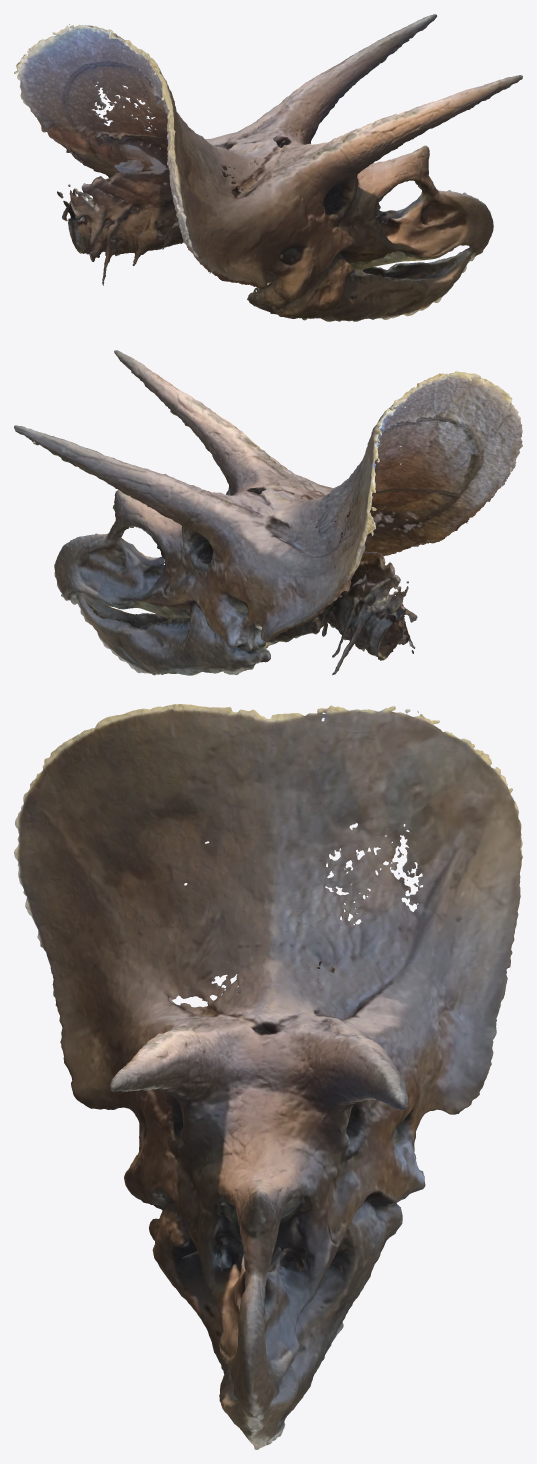
File: sf-triceratops-skull-00099f.glb
3 renders of one model, top to bottom at view 1: azimuth 30°, elevation 25°; view 2: azimuth 150°, elevation 25°; view 3: azimuth 270°, elevation 25°, orthographic. The views are drawn at different scales.
Visible parts, largest first — view 1: Object_2; view 2: Object_2; view 3: Object_2.
Boxes of the visible parts, <box> form: Object_2: <box>14,14,522,321</box>; Object_2: <box>14,350,522,675</box>; Object_2: <box>14,704,522,1449</box>.
Bounding box in the file's own units: 6.33 × 5.16 × 4.49.
Materials: 1 (1 with a texture image).
